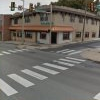crosswalk: (0, 56, 87, 97), (0, 48, 28, 55), (51, 48, 82, 54)
